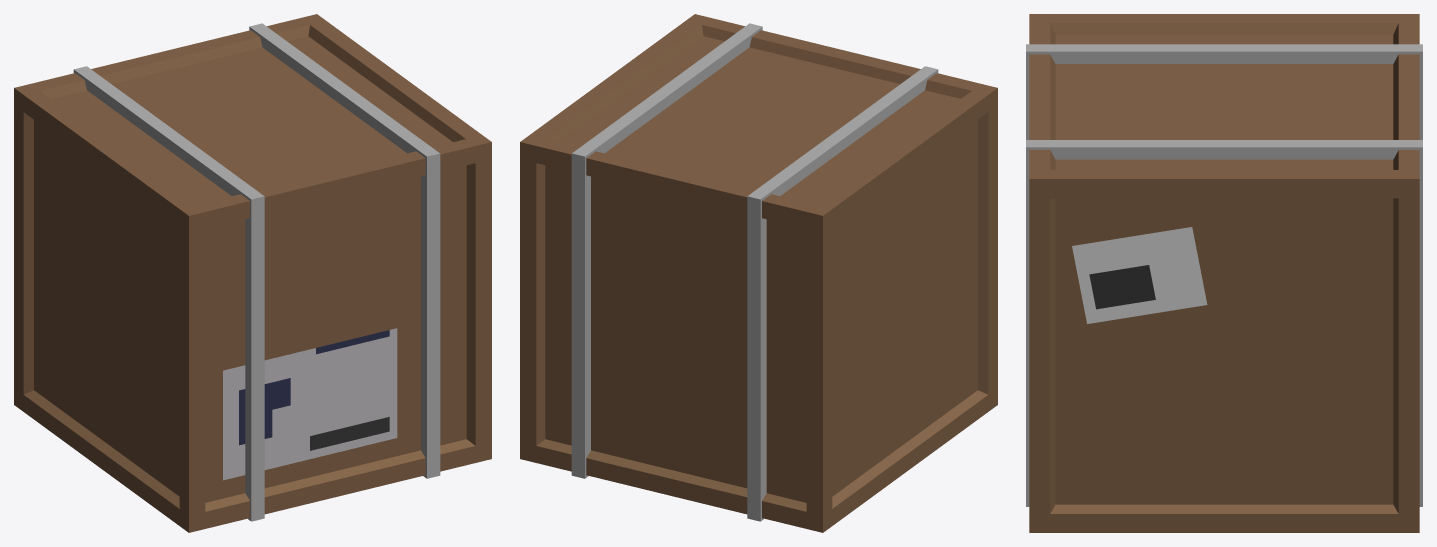
3 views of the same model, side by side, from view 1: azimuth 30°, elevation 25°; view 2: azimuth 150°, elevation 25°; view 3: azimuth 270°, elevation 25° (orthographic). The views are drawn at different scales.
Visible parts, largest first — view 1: SM_box; view 2: SM_box; view 3: SM_box.
Boxes of the visible parts, x1,y1,x2,y2 form: SM_box: [14, 14, 491, 532]; SM_box: [520, 14, 997, 532]; SM_box: [1026, 14, 1422, 532].
Bounding box in the file's own units: 0.6462 × 0.6568 × 0.6568.
1 material, 1 textured.
